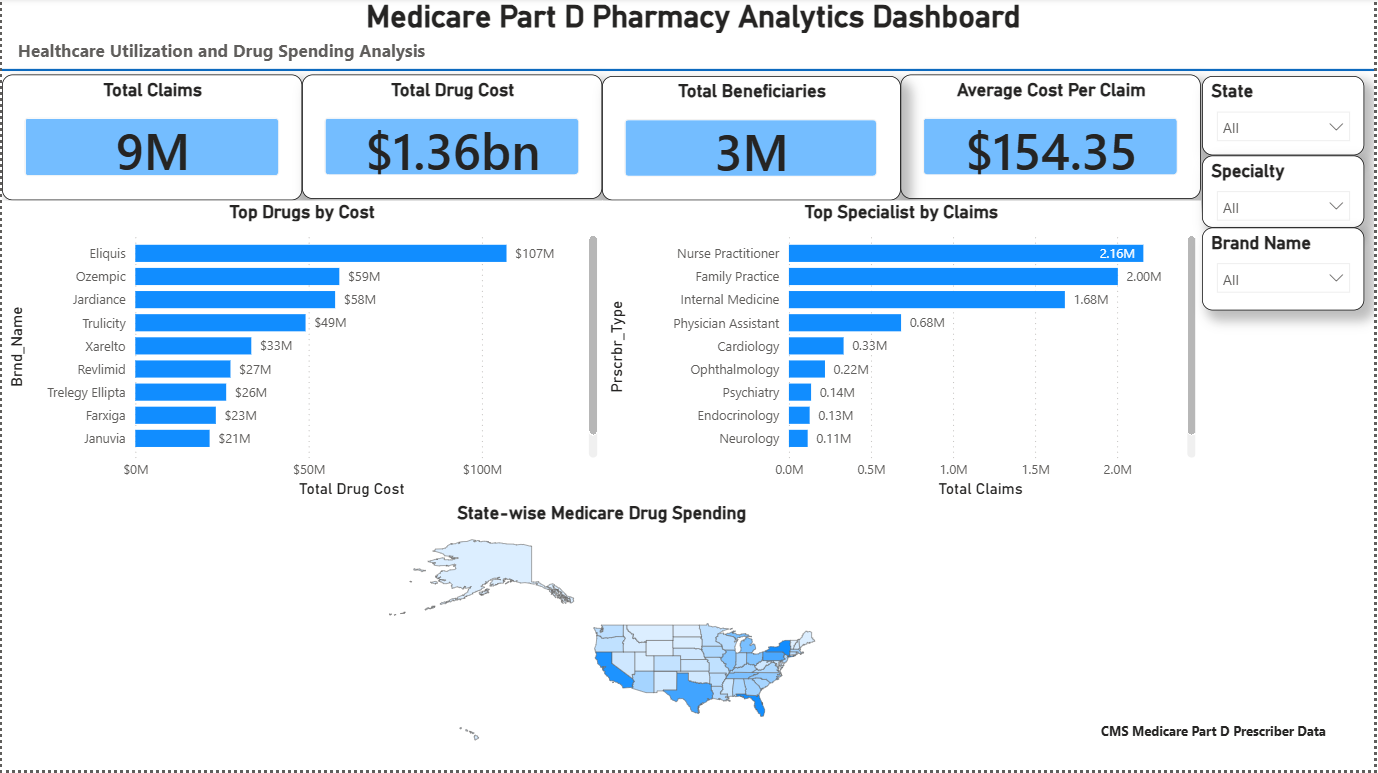

The dashboard page shown, as its layout file describes it:
{"tool":"powerbi","page":{"name":"Page 1","canvas":[1280,720],"ordinal":0},"visuals":[{"type":"cardVisual","title":"Total Claims","fields":{"Data":["clean_medicare_partd.Total Claims"]},"box":[0,93.2,241,119.5],"z":0},{"type":"cardVisual","title":"Total Drug Cost","fields":{"Data":["clean_medicare_partd.Total Drug Cost"]},"box":[255.2,95.2,237,117.5],"z":1000},{"type":"cardVisual","title":"Total Beneficiaries","fields":{"Data":["clean_medicare_partd.Total Beneficiaries"]},"box":[518.5,95.2,243,117.5],"z":2000},{"type":"cardVisual","title":"Average Cost Per Claim","fields":{"Data":["clean_medicare_partd.Average Cost Per Claim"]},"box":[779.7,97.2,251.1,115.4],"z":3000},{"type":"textbox","title":"Medicare Part D Pharmacy Analytics Dashboard","box":[0,0,1280,88.3],"z":4000},{"type":"shape","box":[0,74.5,1280,13.8],"z":5000},{"type":"clusteredBarChart","title":"Top Drugs by Cost","fields":{"Category":["clean_medicare_partd.Brnd_Name"],"Y":["clean_medicare_partd.Total Drug Cost"]},"box":[0,212.7,492.2,251.1],"z":6000},{"type":"clusteredBarChart","title":"Top Specialist by Claims","fields":{"Category":["clean_medicare_partd.Prscrbr_Type"],"Y":["clean_medicare_partd.Total Claims"]},"box":[518.5,214.7,512.4,249.1],"z":7000},{"type":"shapeMap","title":"State - wise Medicare Drug Spending","fields":{"Category":["clean_medicare_partd.Prscrbr_State_Abrvtn"],"Value":["clean_medicare_partd.Total Drug Cost"]},"box":[0,473.9,866.8,247.1],"z":8000},{"type":"slicer","title":"State","fields":{"Values":["clean_medicare_partd.Prscrbr_State_Abrvtn"]},"box":[1055.3,88.2,225.2,74],"z":9000},{"type":"slicer","title":"Specialty","fields":{"Values":["clean_medicare_partd.Prscrbr_Type"]},"box":[1055.2,164.1,224.8,77],"z":10000},{"type":"slicer","title":"Brand Name","fields":{"Values":["clean_medicare_partd.Brnd_Name"]},"box":[1055.2,241,224.8,87.1],"z":11000},{"type":"textbox","title":"CMS Medicare Part D Prescriber Data","box":[866.2,623.4,377.9,55.2],"z":12000}]}

Visuals, with their boxes in screenshot pixels (x1, y1, x2, y2), scaled from the page's 1280x720 canvas onto the 1378x773 screenshot:
"Total Claims" cardVisual: 0:100:259:228
"Total Drug Cost" cardVisual: 275:102:530:228
"Total Beneficiaries" cardVisual: 558:102:820:228
"Average Cost Per Claim" cardVisual: 839:104:1110:228
"Medicare Part D Pharmacy Analytics Dashboard" textbox: 0:0:1377:95
shape: 0:80:1377:95
"Top Drugs by Cost" clusteredBarChart: 0:228:530:498
"Top Specialist by Claims" clusteredBarChart: 558:231:1110:498
"State - wise Medicare Drug Spending" shapeMap: 0:509:933:772
"State" slicer: 1136:95:1377:174
"Specialty" slicer: 1136:176:1377:259
"Brand Name" slicer: 1136:259:1377:352
"CMS Medicare Part D Prescriber Data" textbox: 933:669:1339:729
